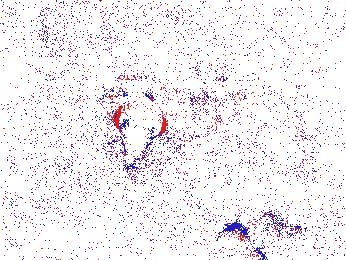flame jellyfish: (114, 93, 168, 178), (213, 210, 302, 260), (33, 217, 91, 260)
